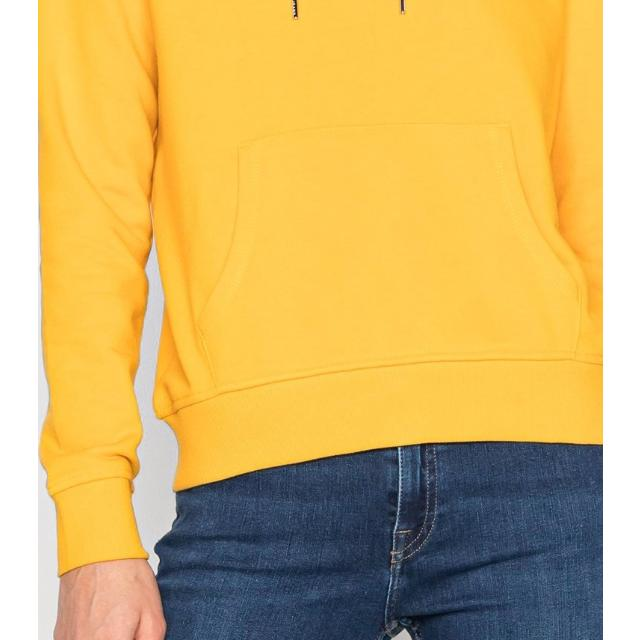denim: (125, 420, 603, 640)
